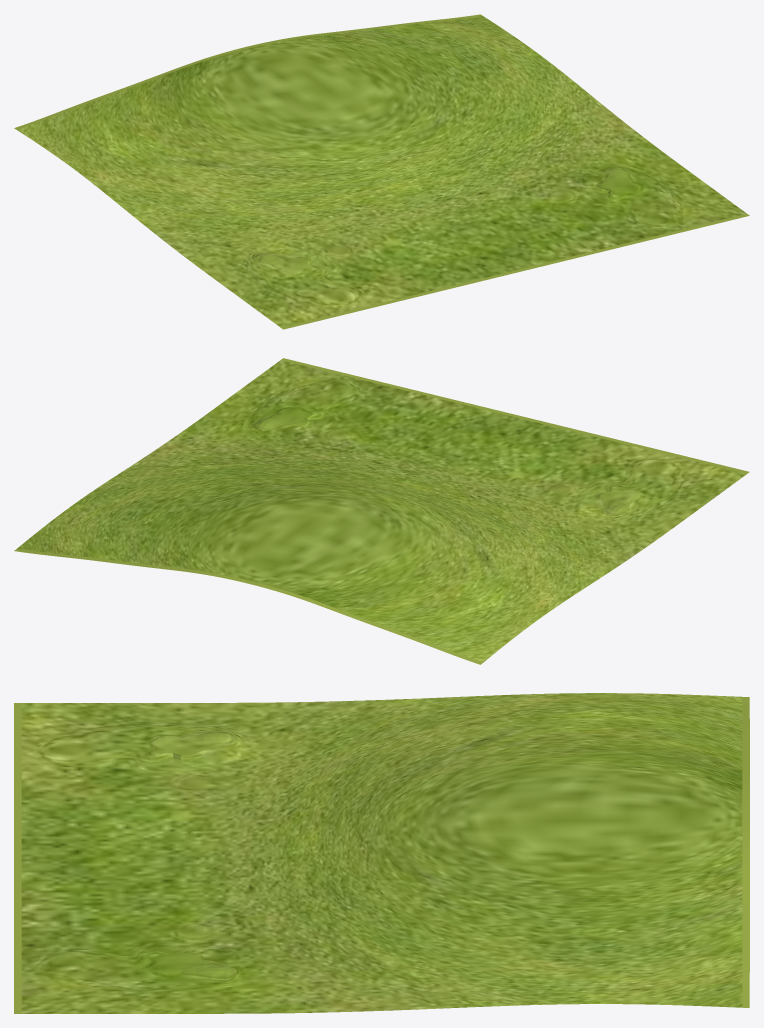
File: gazebo_terrain.dae
The picture shows the model from 3 angles, top to bottom: view 1: azimuth 30°, elevation 25°; view 2: azimuth 150°, elevation 25°; view 3: azimuth 270°, elevation 25°; orthographic projection. The views are drawn at different scales.
Parts seen in each view (by area): view 1: Plane; view 2: Plane; view 3: Plane.
Boxes of the visible parts, left/top/right/bottom form: Plane: left=14, top=14, right=749, bottom=329; Plane: left=14, top=358, right=749, bottom=664; Plane: left=14, top=693, right=749, bottom=1013.
Size of the model in its own units: 40 by 40.01 by 2.74.
Materials: 1 (1 with a texture image).
